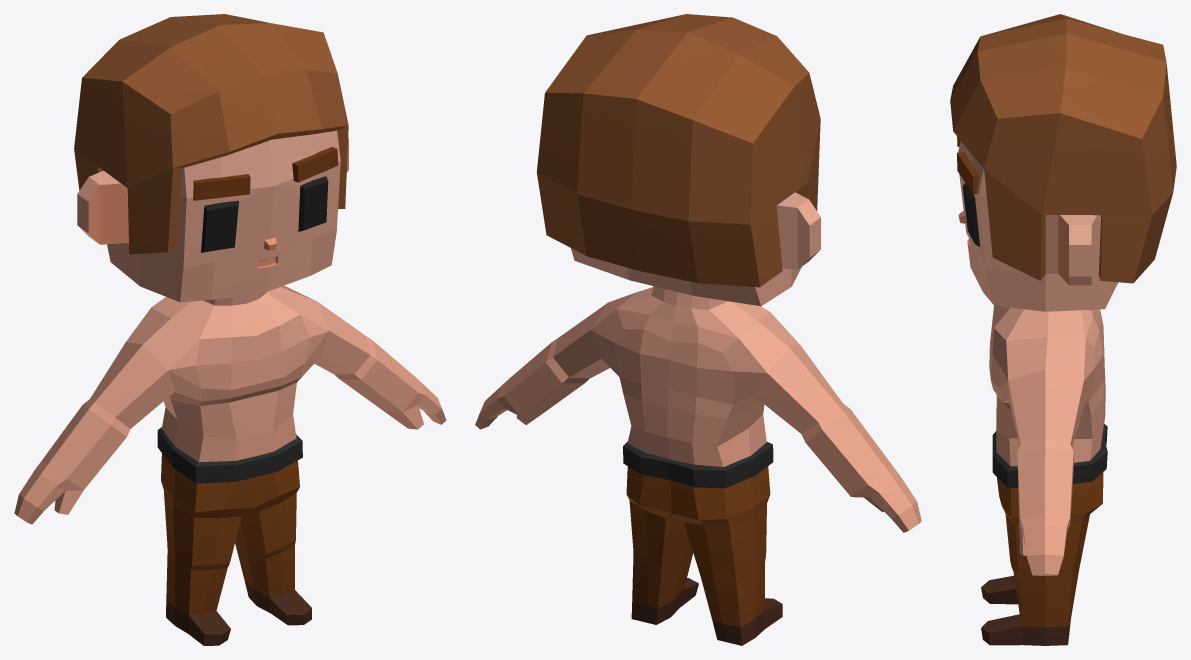
The model's file is SimpleCharacter.fbx.
3 renders of one model, left to right at view 1: azimuth 30°, elevation 25°; view 2: azimuth 150°, elevation 25°; view 3: azimuth 270°, elevation 25°, orthographic. The views are drawn at different scales.
Visible parts, largest first — view 1: Cube; view 2: Cube; view 3: Cube.
Part boxes in pixels (x1,y1,x2,y2): Cube: (14,14,446,645); Cube: (475,14,921,645); Cube: (950,14,1176,645).
Size of the model in its own units: 152 by 197 by 69.25.
Materials: 1 (1 with a texture image).
